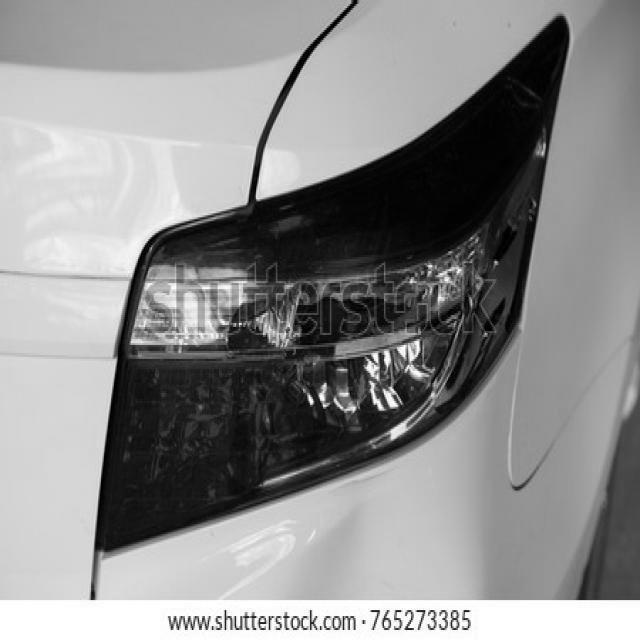Taillight-Damage: (64, 94, 587, 550)
